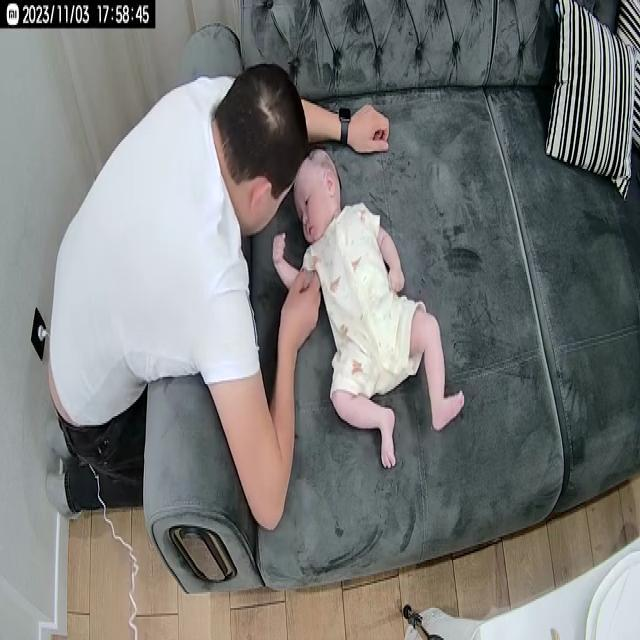baby: (269, 145, 466, 477)
